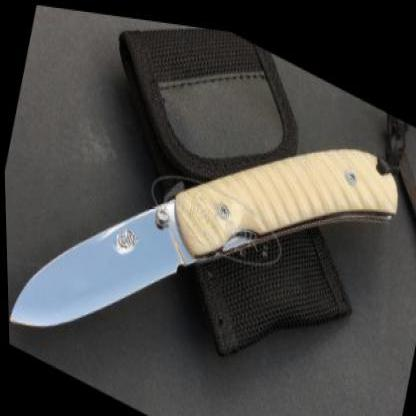knife: (2, 112, 218, 410)
